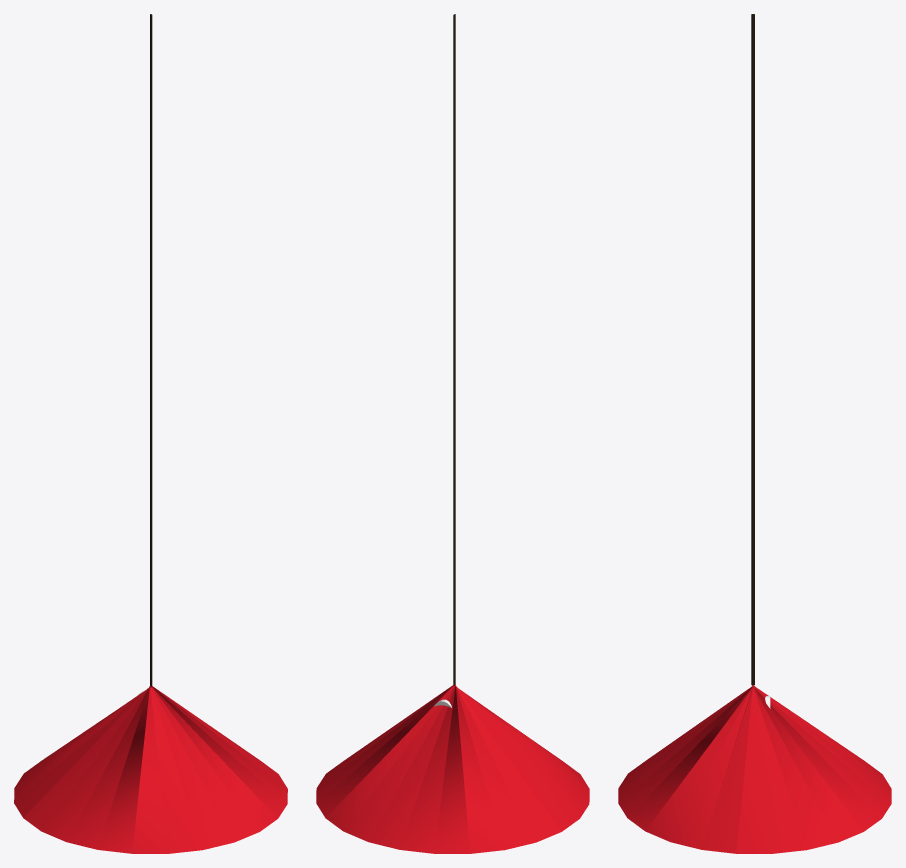
The model's file is fancy_lamp.fbx.
The picture shows the model from 3 angles, left to right: view 1: azimuth 30°, elevation 25°; view 2: azimuth 150°, elevation 25°; view 3: azimuth 270°, elevation 25°; orthographic projection.
Visible parts, largest first — view 1: SketchUp, ID23; view 2: SketchUp, ID23; view 3: SketchUp, ID23.
Boxes of the visible parts, <box> form: SketchUp: <box>14,686,287,853</box>; ID23: <box>150,14,152,686</box>; SketchUp: <box>316,684,589,853</box>; ID23: <box>453,14,455,685</box>; SketchUp: <box>618,685,891,853</box>; ID23: <box>751,14,754,685</box>.
Size of the model in its own units: 91.4 by 288 by 91.4.
